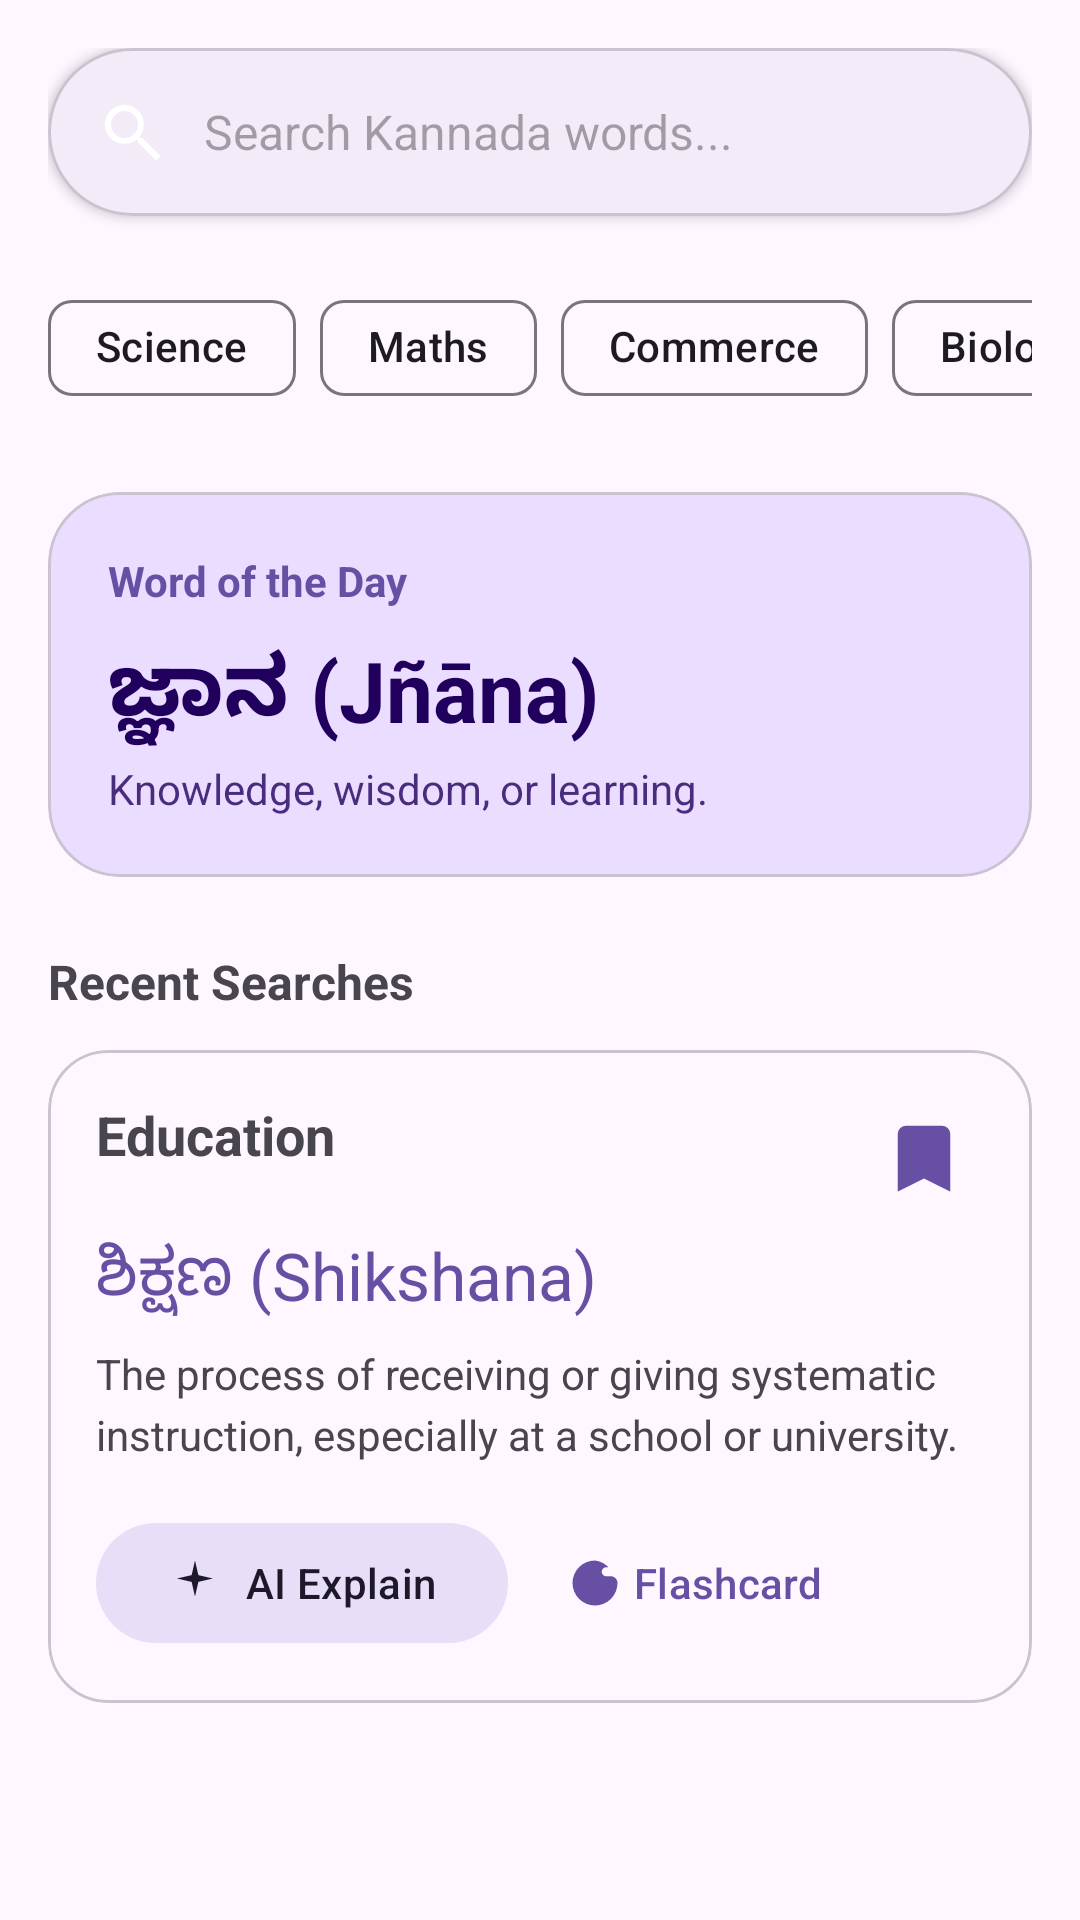

Icon click points for this 1080w x 1920h phone screenshot, format point (x, y):
bookmark: point (924, 1158)
